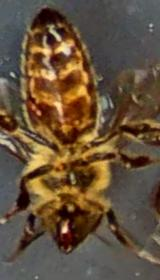varroa_mite: (18, 87, 46, 128)
